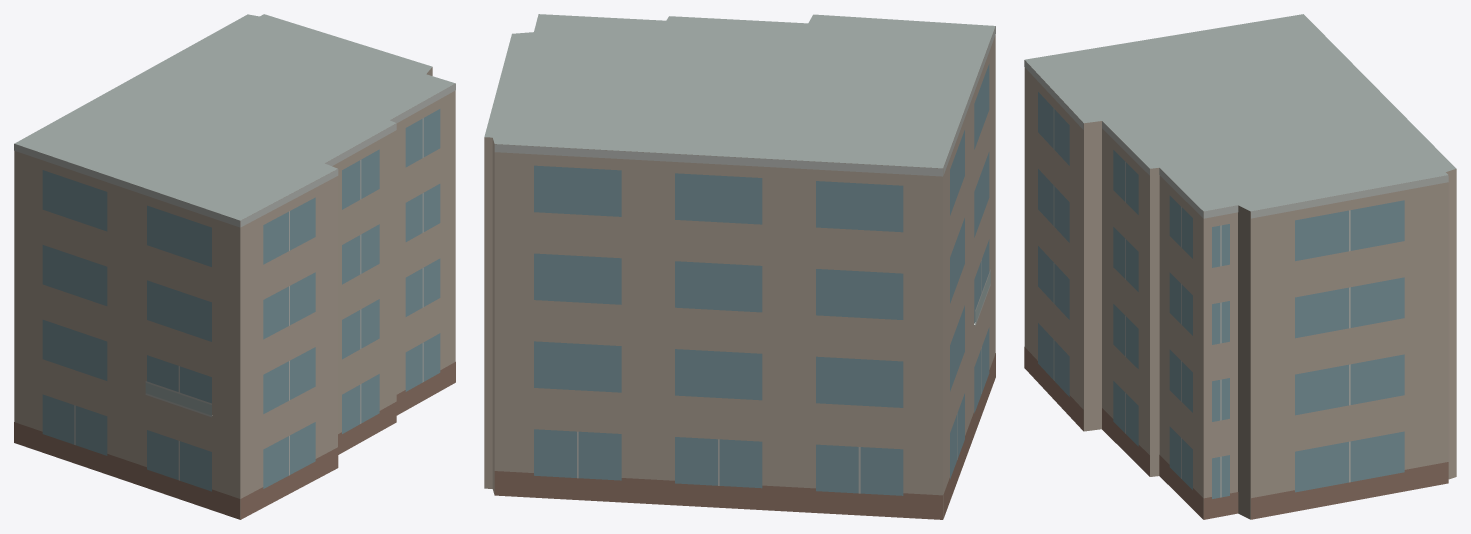
The model's file is survey-upis-32842532.glb.
3 views of the same model, side by side, from view 1: azimuth 30°, elevation 25°; view 2: azimuth 150°, elevation 25°; view 3: azimuth 270°, elevation 25° (orthographic). The views are drawn at different scales.
Visible parts, largest first — view 1: survey-upis-32842532.tmp; view 2: survey-upis-32842532.tmp; view 3: survey-upis-32842532.tmp.
Boxes of the visible parts, x1,y1,x2,y2 form: survey-upis-32842532.tmp: (14,14,455,519); survey-upis-32842532.tmp: (484,14,995,519); survey-upis-32842532.tmp: (1024,14,1456,519).
Size of the model in its own units: 14.44 by 10.5 by 13.35.
